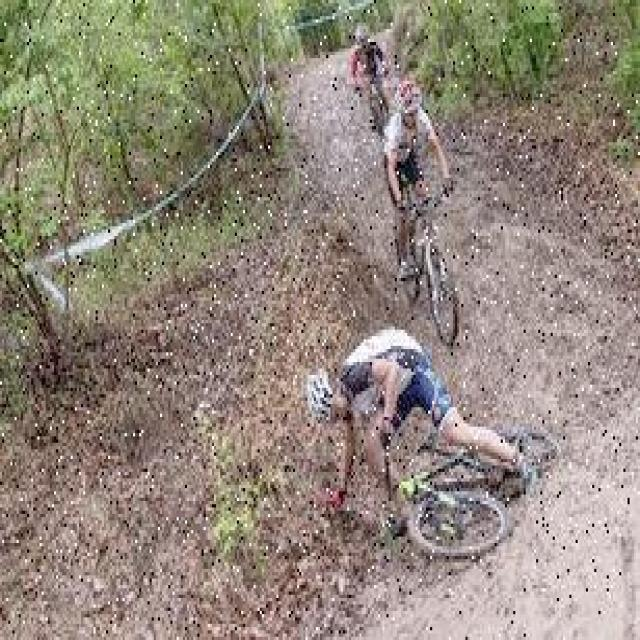fall: (305, 329, 505, 488)
